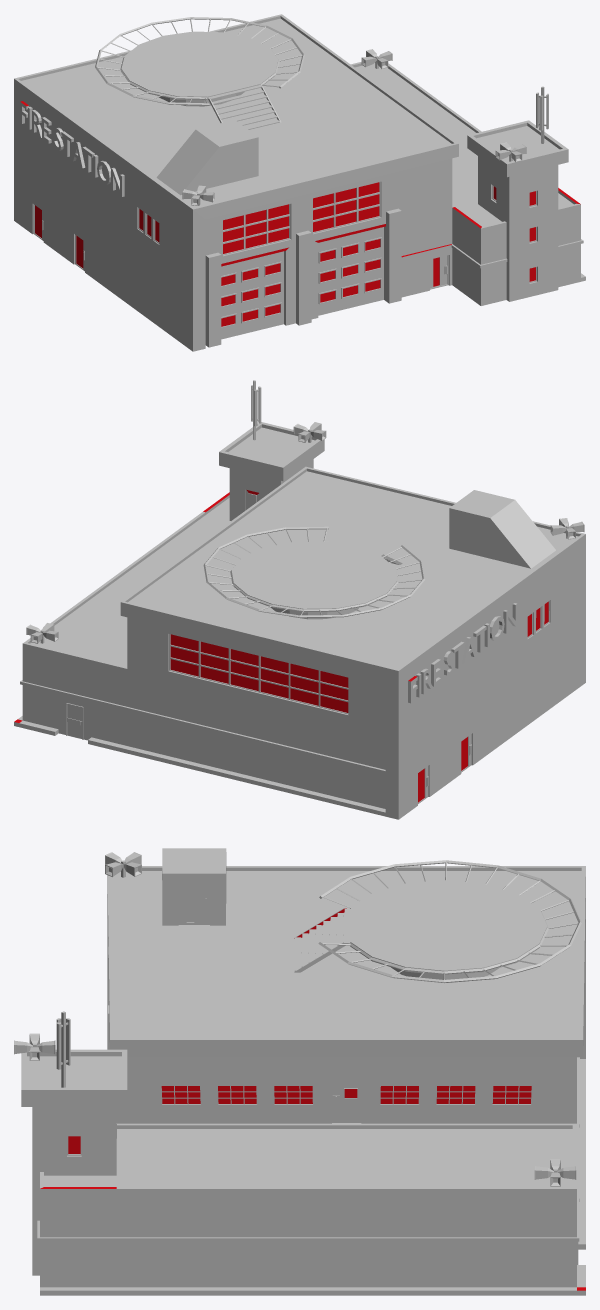
The model's file is SM_infrastructure_buildings_014.gltf.
3 renders of one model, top to bottom at view 1: azimuth 30°, elevation 25°; view 2: azimuth 150°, elevation 25°; view 3: azimuth 270°, elevation 25°, orthographic. The views are drawn at different scales.
Parts seen in each view (by area): view 1: infrastructure_buildings_014; view 2: infrastructure_buildings_014; view 3: infrastructure_buildings_014.
Boxes of the visible parts, x1,y1,x2,y2 form: infrastructure_buildings_014: (14, 14, 585, 351); infrastructure_buildings_014: (14, 380, 585, 819); infrastructure_buildings_014: (14, 848, 585, 1295).
Bounding box in the file's own units: 30 × 15.11 × 30.
